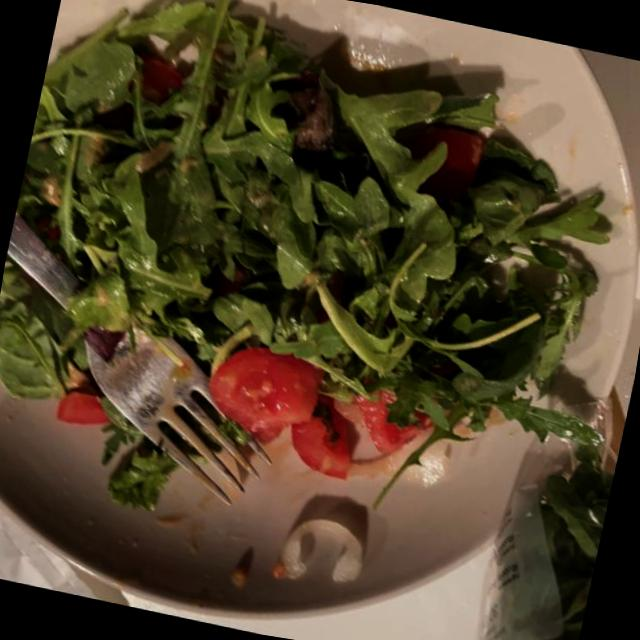Green Salad: (0, 0, 639, 540)
